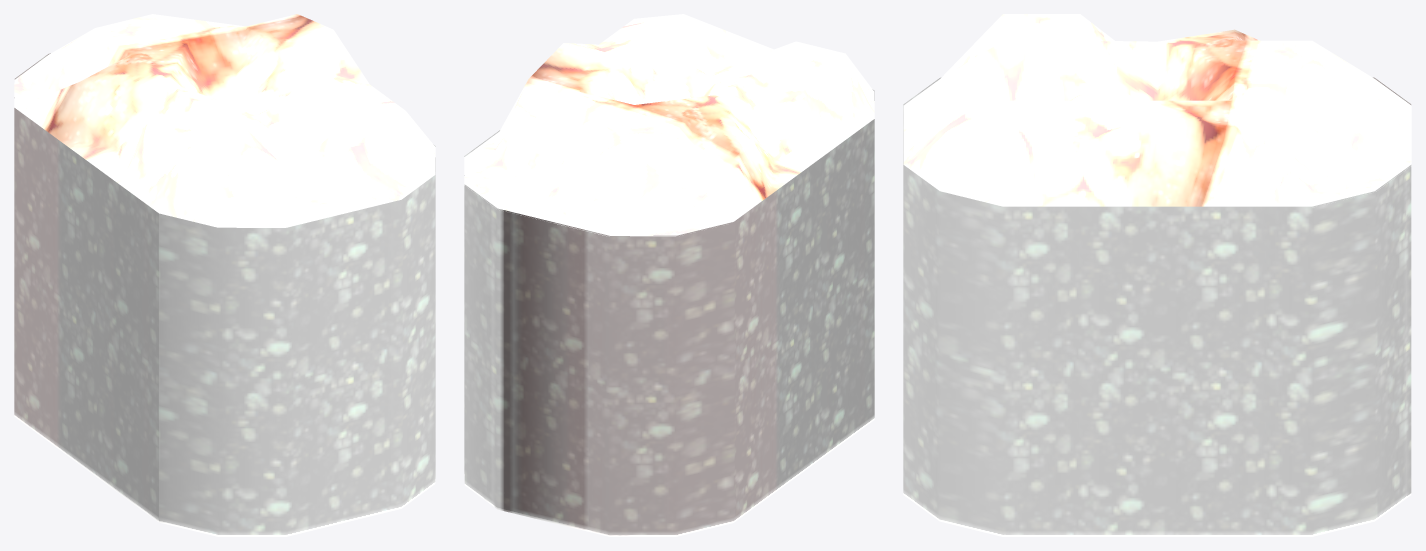
File: SM_Shrimp_Gunkan.fbx
The picture shows the model from 3 angles, left to right: view 1: azimuth 30°, elevation 25°; view 2: azimuth 150°, elevation 25°; view 3: azimuth 270°, elevation 25°; orthographic projection. The views are drawn at different scales.
Parts seen in each view (by area): view 1: SM_Shrimp_Gunkan_LOD0; view 2: SM_Shrimp_Gunkan_LOD0; view 3: SM_Shrimp_Gunkan_LOD0.
Boxes of the visible parts, x1,y1,x2,y2 form: SM_Shrimp_Gunkan_LOD0: (14,14,435,536); SM_Shrimp_Gunkan_LOD0: (464,14,874,536); SM_Shrimp_Gunkan_LOD0: (903,14,1411,536).
Size of the model in its own units: 3.75 by 5.58 by 4.91.
